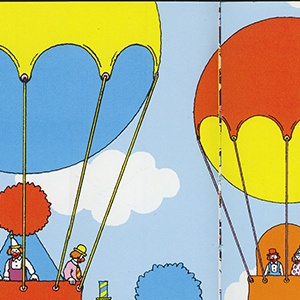Charlie: (79, 53, 221, 133)
